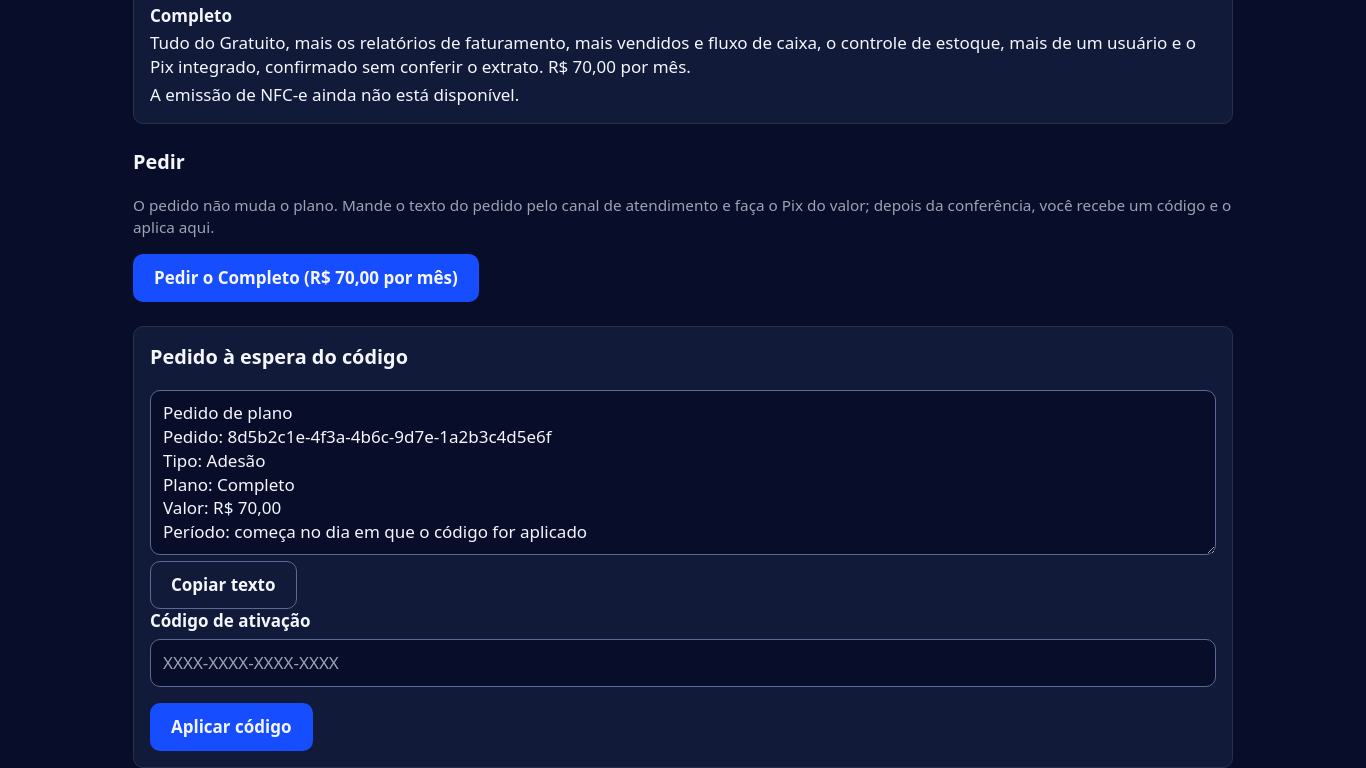
Scenario: tela do plano › aplica o código, relê a identidade e o menu passa a mostrar os recursos do plano
(page scrolled)
Type "2jsy pfpp bna2 yxnn" into the field labelled "Código de ativação". click: (683, 663)
box: [150,639,1216,687]
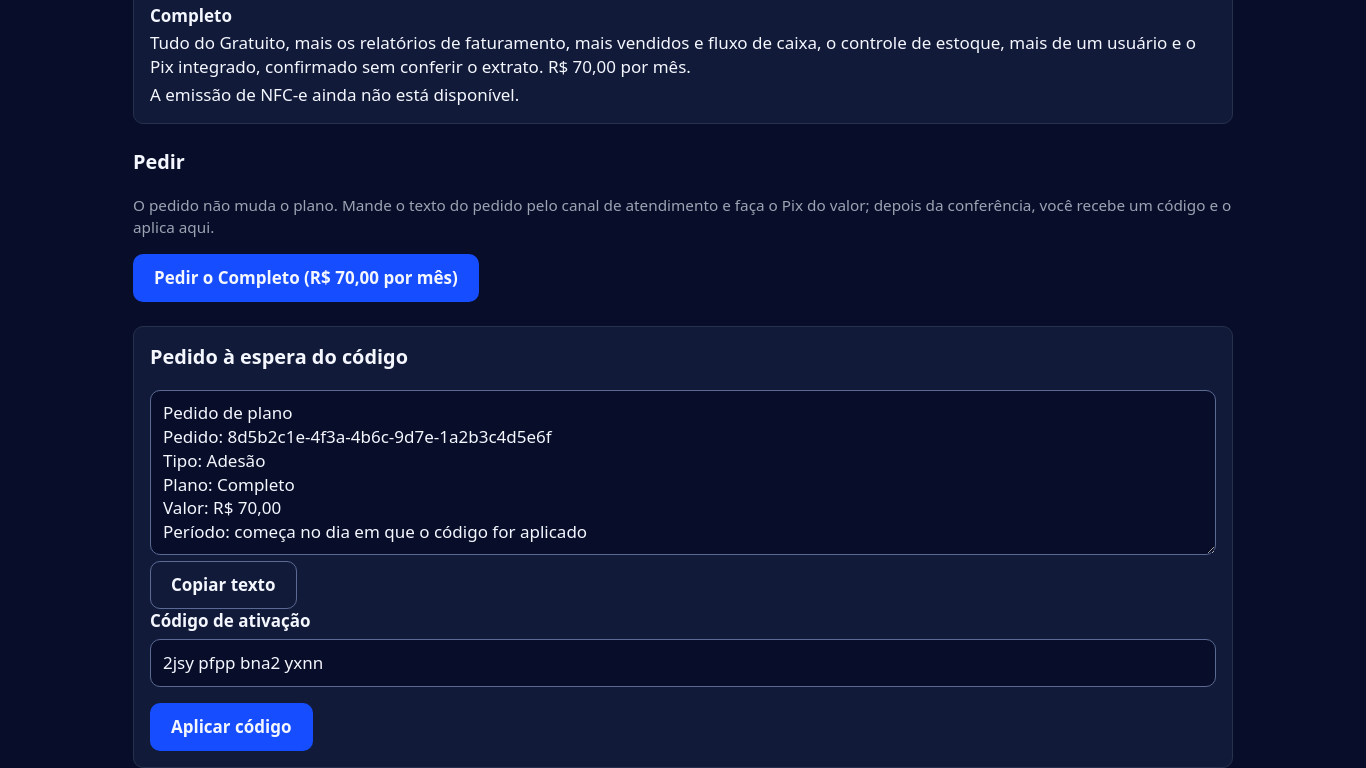
Click the button "Aplicar código". click: click(231, 727)
box: [150,703,312,751]
(page scrolled)
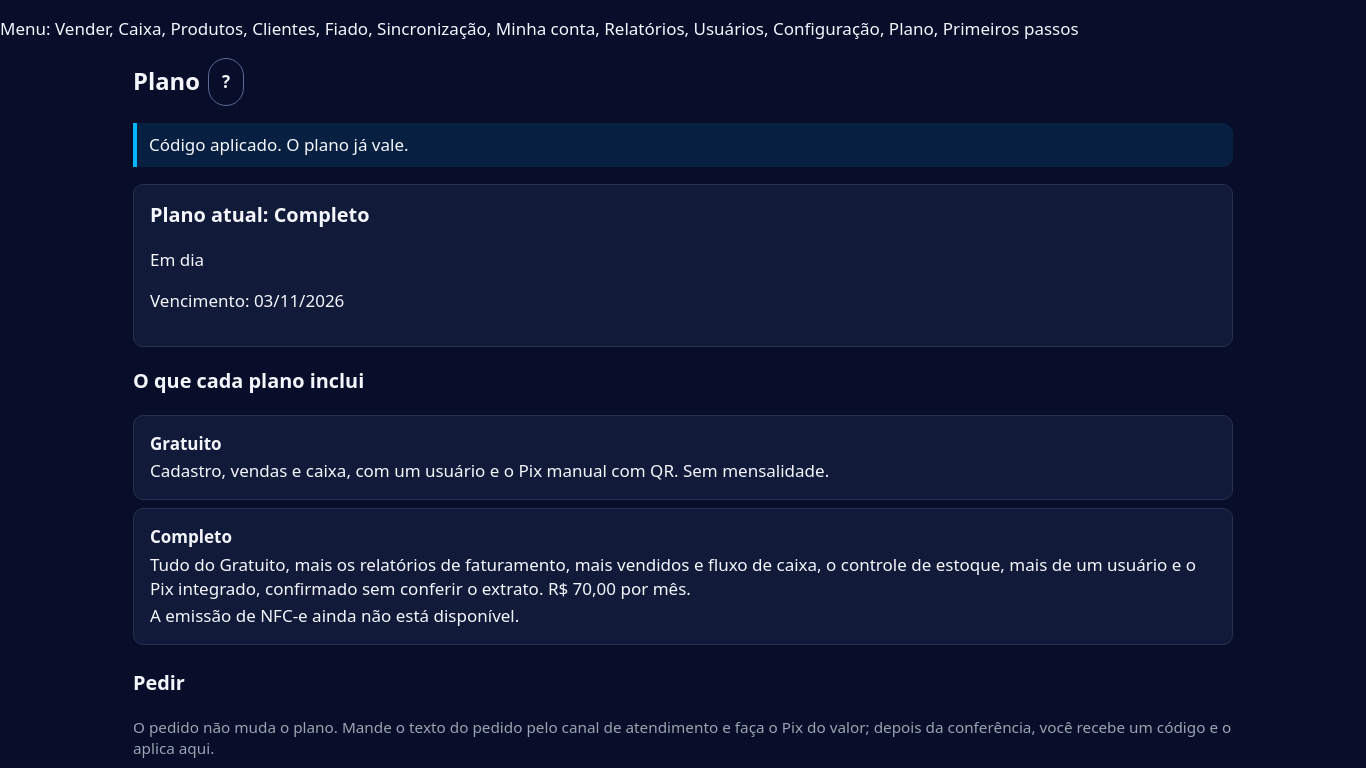
Expected: the heading "Plano atual: Completo" is shown, [150,201,370,228]
